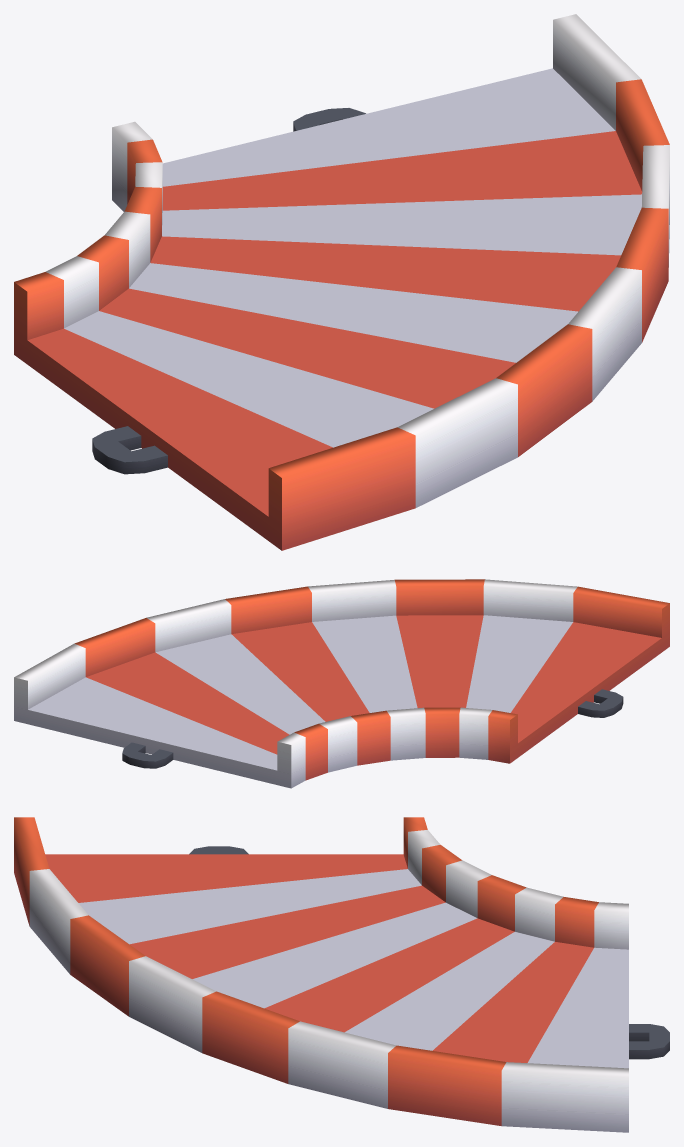
The model's file is track-striped-wide-corner-small.glb.
The picture shows the model from 3 angles, top to bottom: view 1: azimuth 30°, elevation 25°; view 2: azimuth 150°, elevation 25°; view 3: azimuth 270°, elevation 25°; orthographic projection. The views are drawn at different scales.
Visible parts, largest first — view 1: track-striped-wide-corner-small; view 2: track-striped-wide-corner-small; view 3: track-striped-wide-corner-small.
Part boxes in pixels (left/top/right/bottom): track-striped-wide-corner-small: left=14, top=14, right=669, bottom=550; track-striped-wide-corner-small: left=14, top=579, right=669, bottom=788; track-striped-wide-corner-small: left=14, top=817, right=669, bottom=1132.
Bounding box in the file's own units: 3.2 × 0.3 × 3.2.
1 material, 1 textured.
